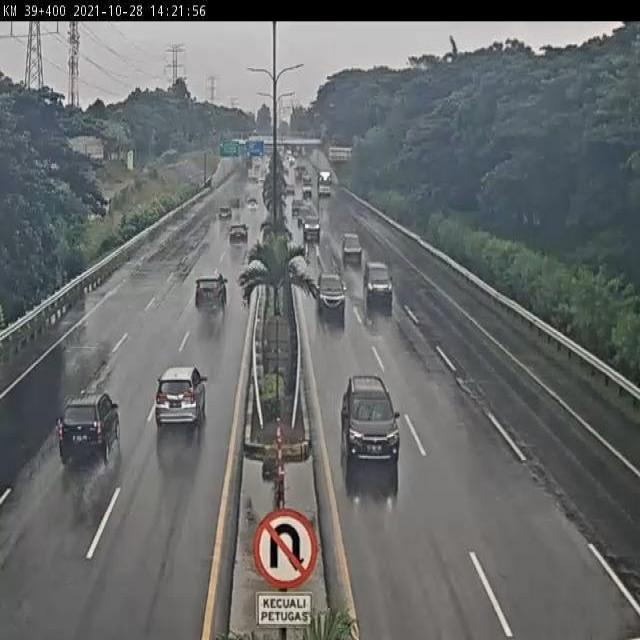car: (343, 374, 401, 466), (55, 389, 120, 464), (154, 364, 209, 431), (315, 272, 347, 319), (362, 260, 393, 308), (193, 272, 229, 312), (340, 230, 365, 262), (303, 216, 324, 244), (229, 220, 249, 244), (217, 202, 234, 222), (292, 196, 306, 219)
